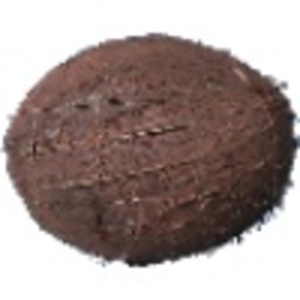coco: (5, 34, 300, 266)
